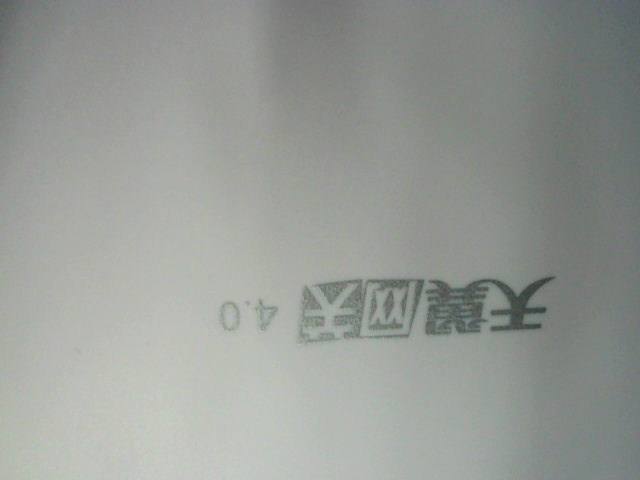BM_TianYiWangGuan: (214, 248, 564, 345)
